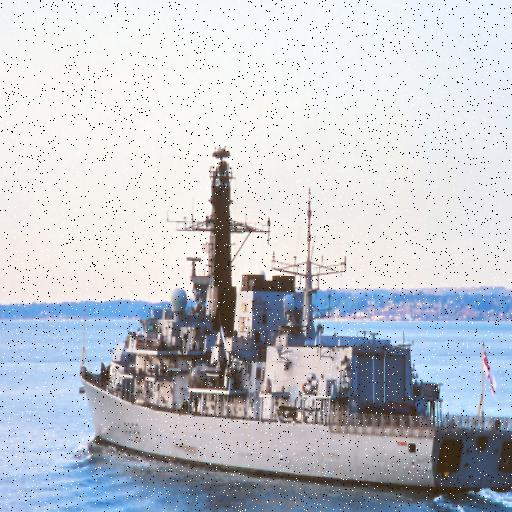Fragata: (77, 139, 512, 506)
